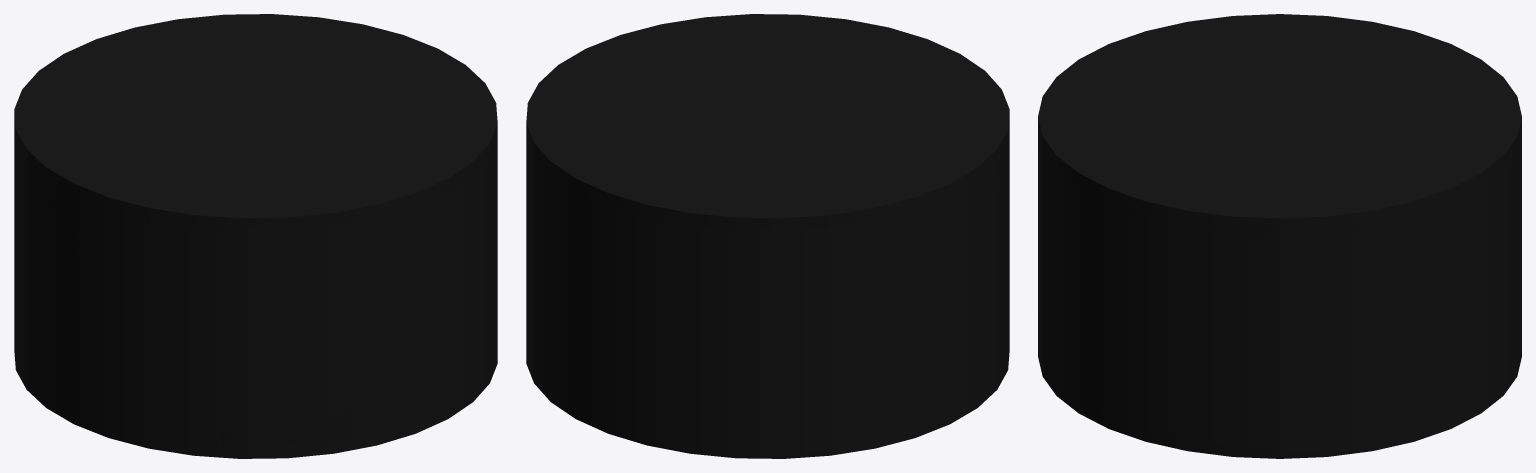
File: wheel_1__wheel_tire_hub.glb
The picture shows the model from 3 angles, left to right: view 1: azimuth 30°, elevation 25°; view 2: azimuth 150°, elevation 25°; view 3: azimuth 270°, elevation 25°; orthographic projection.
Visible parts, largest first — view 1: world; view 2: world; view 3: world.
Part boxes in pixels (x1=…): world: x1=14, y1=14, x2=497, y2=458; world: x1=526, y1=14, x2=1009, y2=458; world: x1=1038, y1=14, x2=1521, y2=458.
Bounding box in the file's own units: 0.0572 × 0.0314 × 0.0572.
1 material, 1 textured.
